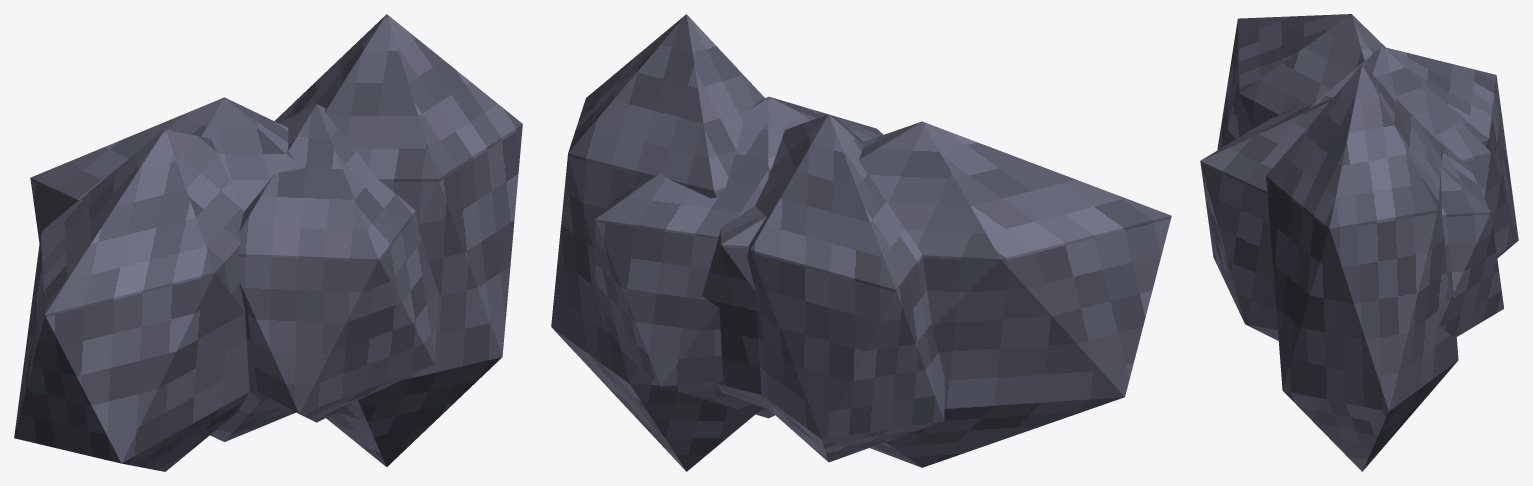
Rendered from ruin_18.glb.
3 renders of one model, left to right at view 1: azimuth 30°, elevation 25°; view 2: azimuth 150°, elevation 25°; view 3: azimuth 270°, elevation 25°, orthographic. The views are drawn at different scales.
Visible parts, largest first — view 1: WeatheredStone, WeatheredStone.003, WeatheredStone.002, WeatheredStone.001; view 2: WeatheredStone, WeatheredStone.001, WeatheredStone.003, WeatheredStone.002; view 3: WeatheredStone.003, WeatheredStone.002, WeatheredStone, WeatheredStone.001.
Part boxes in pixels (left/top/right/bottom): WeatheredStone: left=14, top=129, right=249, bottom=471; WeatheredStone.003: left=274, top=14, right=522, bottom=466; WeatheredStone.002: left=238, top=104, right=438, bottom=422; WeatheredStone.001: left=30, top=97, right=301, bottom=441; WeatheredStone: left=702, top=121, right=1171, bottom=467; WeatheredStone.001: left=747, top=114, right=945, bottom=462; WeatheredStone.003: left=551, top=14, right=764, bottom=471; WeatheredStone.002: left=595, top=96, right=883, bottom=418; WeatheredStone.003: left=1266, top=64, right=1458, bottom=471; WeatheredStone.002: left=1200, top=97, right=1503, bottom=340; WeatheredStone: left=1217, top=14, right=1491, bottom=197; WeatheredStone.001: left=1309, top=46, right=1518, bottom=258.
Bounding box in the file's own units: 3.15 × 2.57 × 1.82.
1 material, 1 textured.
